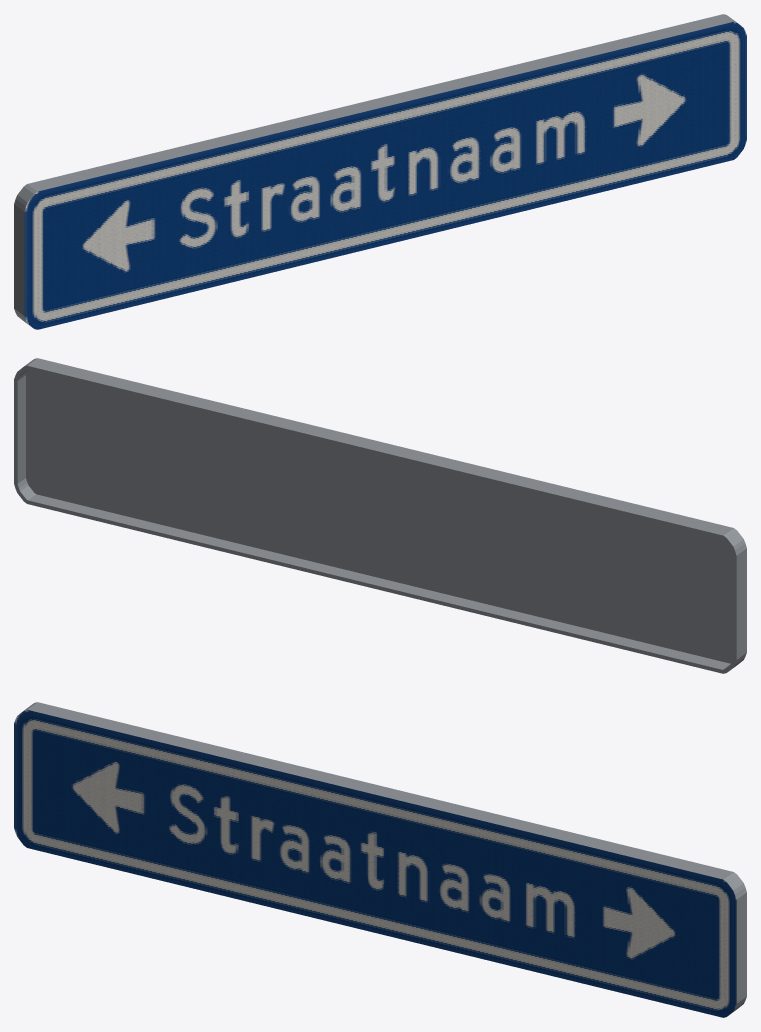
3 views of the same model, one above another, from view 1: azimuth 30°, elevation 25°; view 2: azimuth 150°, elevation 25°; view 3: azimuth 330°, elevation 25° (orthographic).
Parts seen in each view (by area): view 1: cat_c3712b52cc587a32; view 2: cat_c3712b52cc587a32; view 3: cat_c3712b52cc587a32.
Part boxes in pixels (left/top/right/bottom): cat_c3712b52cc587a32: left=14, top=14, right=746, bottom=329; cat_c3712b52cc587a32: left=14, top=358, right=746, bottom=673; cat_c3712b52cc587a32: left=14, top=702, right=746, bottom=1017.
Bounding box in the file's own units: 0.6 × 0.015 × 0.1097.
2 materials, 1 textured.
